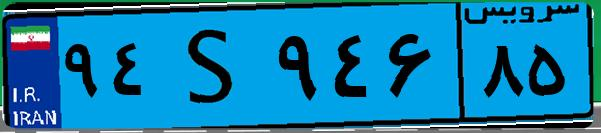4: (330, 28, 385, 110), (110, 28, 158, 98)
5: (525, 38, 570, 115)
6: (385, 28, 445, 110)
8: (475, 38, 525, 113)
9: (270, 28, 330, 110), (57, 26, 110, 100)
S: (158, 12, 270, 120)
